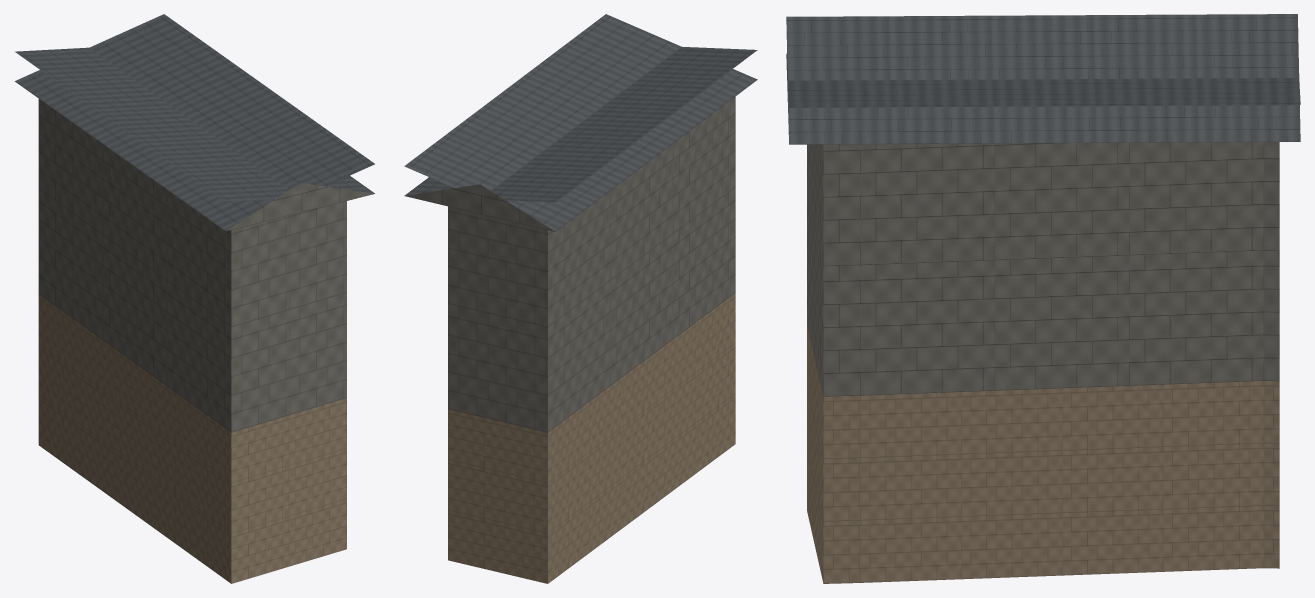
File: bld_c32_-38_458.gltf
The picture shows the model from 3 angles, left to right: view 1: azimuth 30°, elevation 25°; view 2: azimuth 150°, elevation 25°; view 3: azimuth 270°, elevation 25°; orthographic projection. The views are drawn at different scales.
Parts seen in each view (by area): view 1: bld_c32_-38_458; view 2: bld_c32_-38_458; view 3: bld_c32_-38_458.
Boxes of the visible parts, x1,y1,x2,y2 form: bld_c32_-38_458: [14, 14, 374, 583]; bld_c32_-38_458: [404, 14, 757, 583]; bld_c32_-38_458: [786, 14, 1300, 583].
Size of the model in its own units: 5.48 by 13.2 by 12.69.
Materials: 4 (4 with a texture image).
